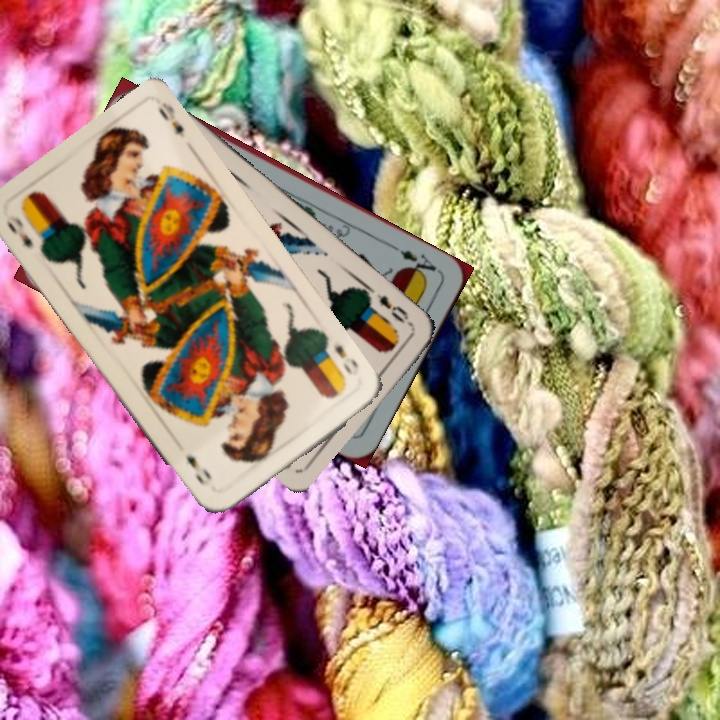EA: (388, 241, 443, 280)
EO: (372, 289, 415, 329), (1, 210, 36, 251), (329, 340, 361, 378)
